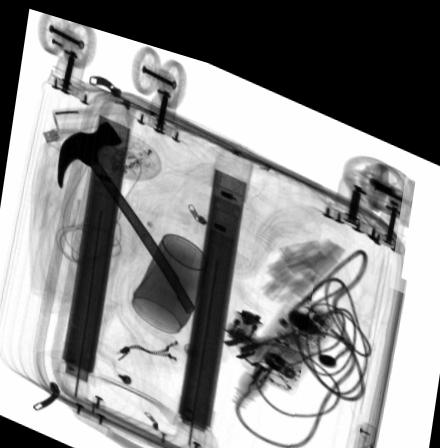Hammer: (56, 115, 194, 303)
